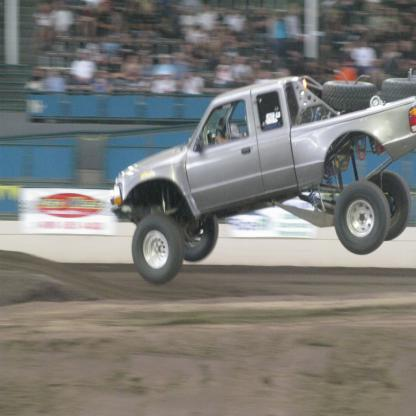Truck: (110, 69, 415, 284)
